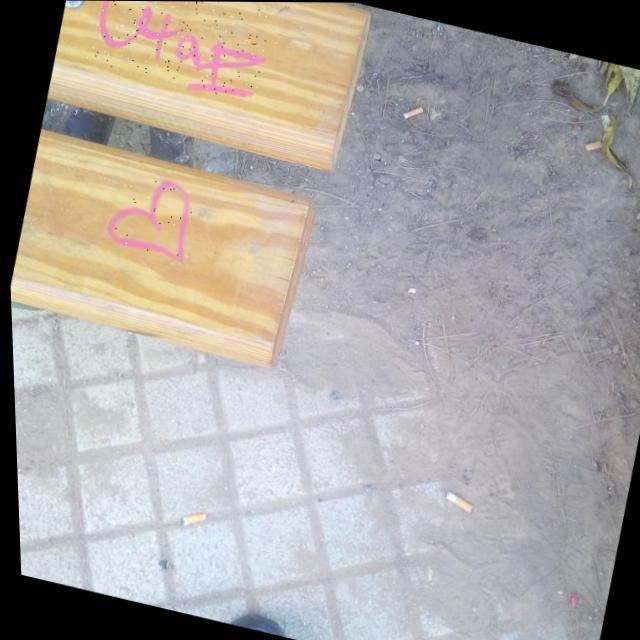-: (88, 1, 276, 102), (100, 166, 203, 263)
